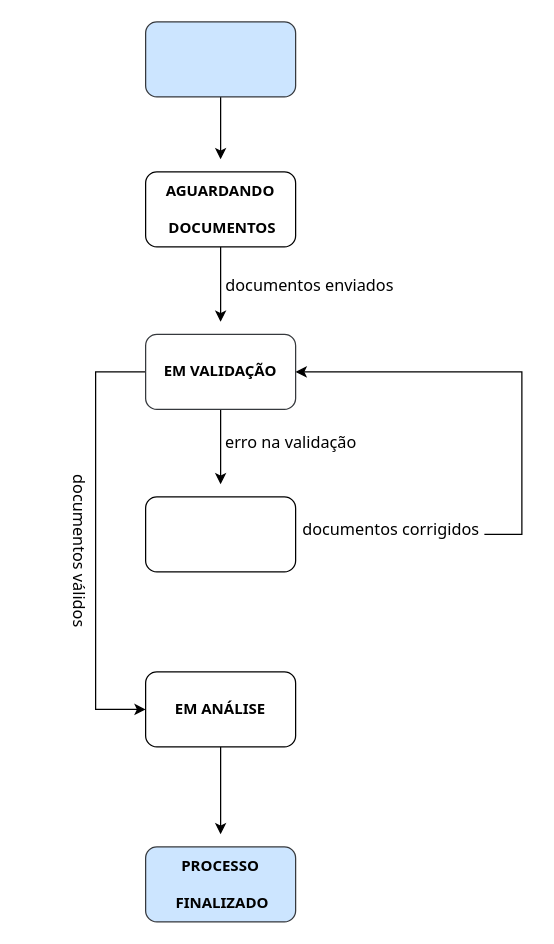
The diagram is 554 pixels wide and 944 high, and some of its shapes have lost their labels. The box of each missing label's shape, as (x1, y1, x2, y2) in pixels:
PENDENTE DE CORREÇÃO: (144, 496, 296, 572)
PROCESSO INICIADO: (144, 21, 296, 97)
